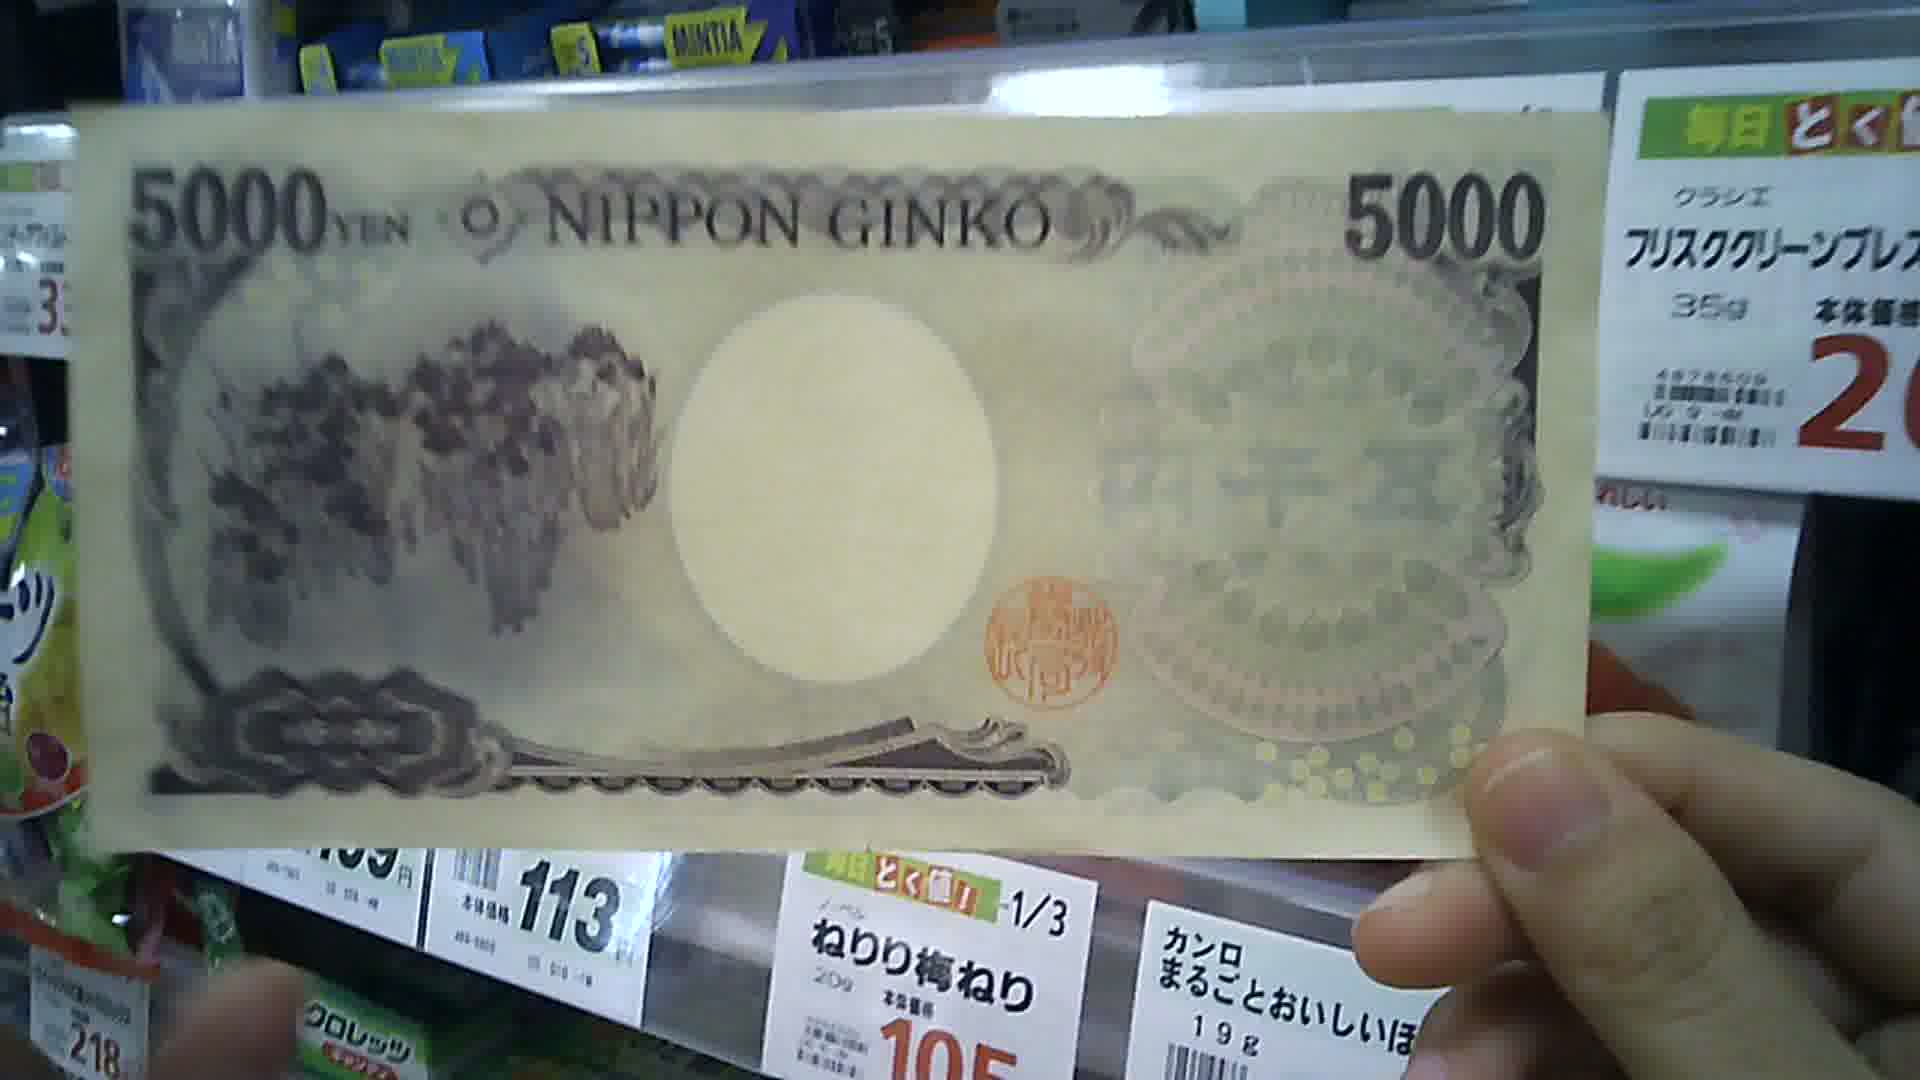5,000 Yen: (74, 108, 1564, 824)
